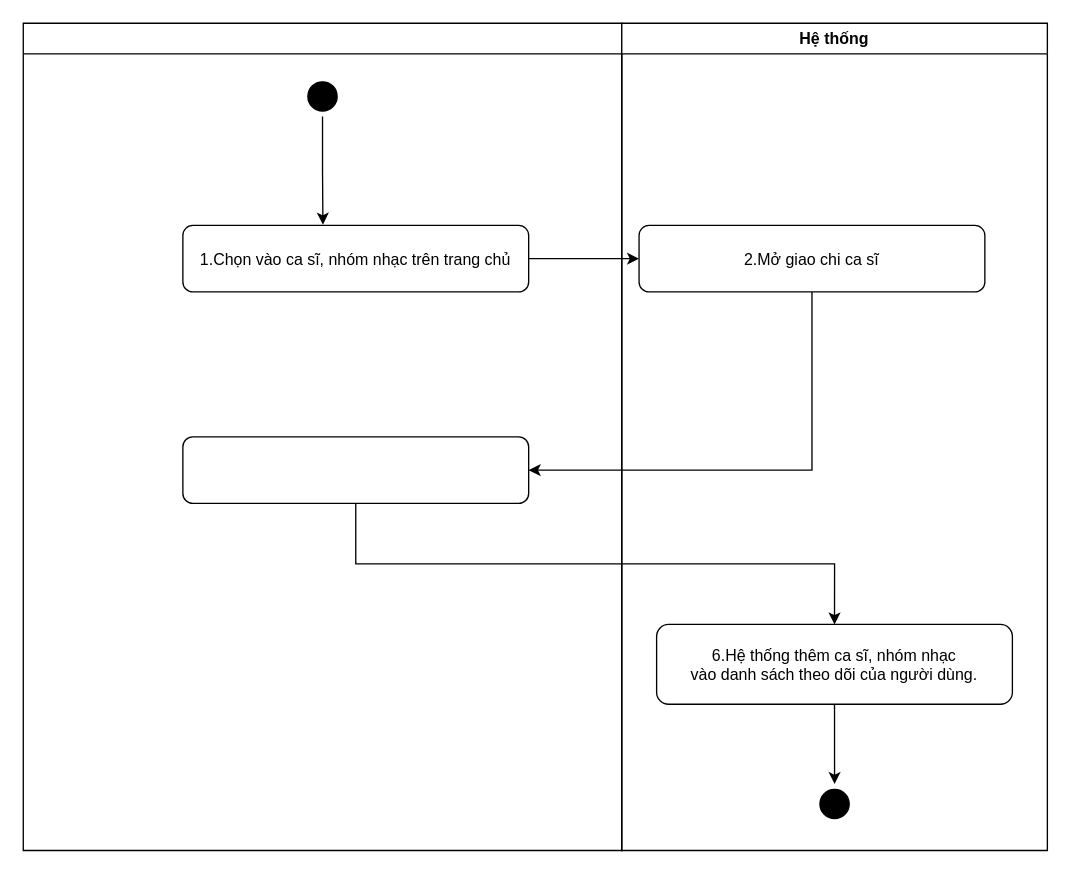
The diagram is 1071 pixels wide and 874 high, and some of its shapes have lost their labels. Here are the shapes that lost their labels. From the top down, the box of each, then its label:
(22, 22, 622, 851): Người dùng
(182, 436, 529, 503): 3.Chọn biểu tượng theo dõi.
